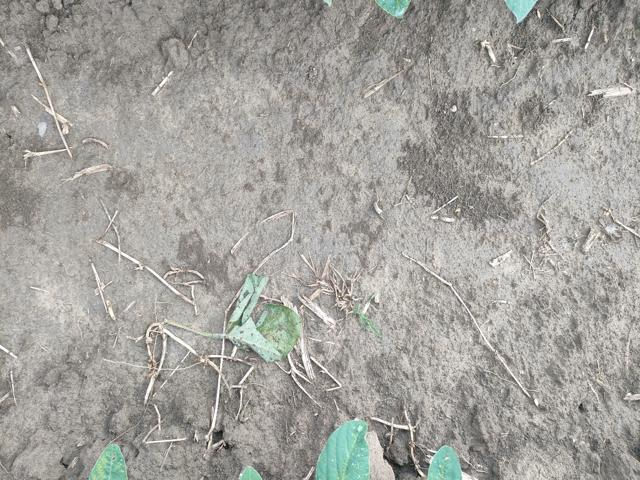bad weed: (173, 286, 301, 363), (342, 286, 386, 336)
